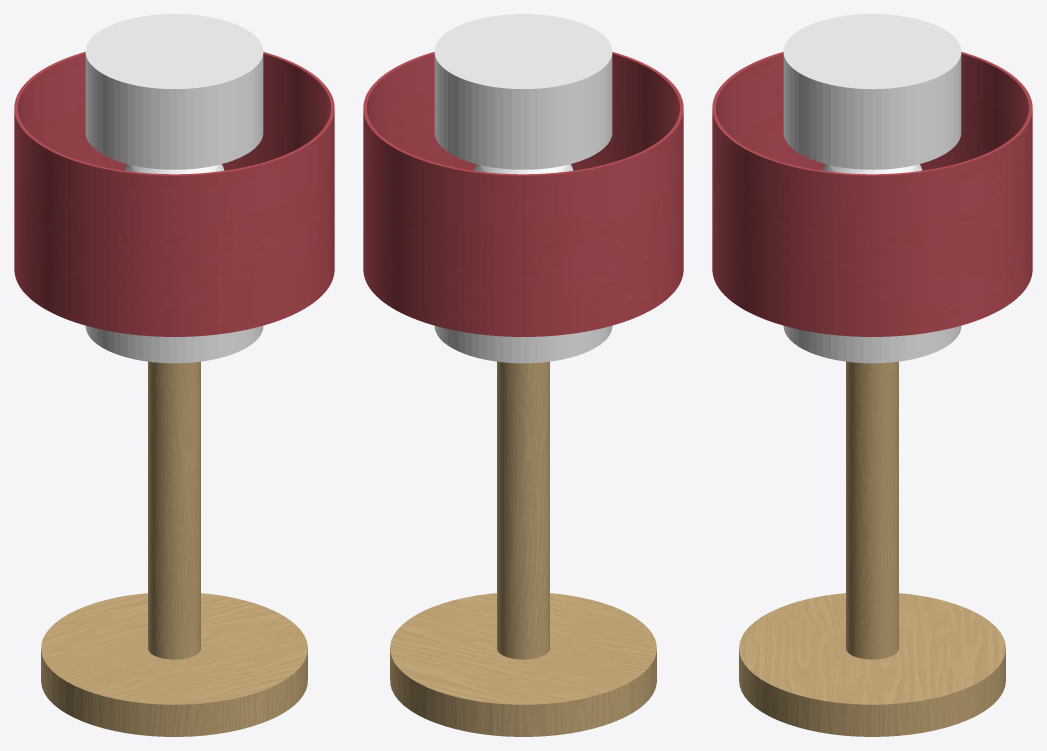
Rendered from RED_OFF.glb.
The picture shows the model from 3 angles, left to right: view 1: azimuth 30°, elevation 25°; view 2: azimuth 150°, elevation 25°; view 3: azimuth 270°, elevation 25°; orthographic projection.
Parts seen in each view (by area): view 1: SHELL, BASE, INNER_TOP, INNER_BOT, BULB; view 2: SHELL, BASE, INNER_TOP, INNER_BOT, BULB; view 3: SHELL, BASE, INNER_TOP, INNER_BOT, BULB.
Part boxes in pixels (x1,y1,x2,y2): SHELL: (14,52,334,336); BASE: (41,361,307,736); INNER_TOP: (85,14,263,169); INNER_BOT: (85,326,263,363); BULB: (124,164,224,174); SHELL: (363,52,683,336); BASE: (390,361,656,736); INNER_TOP: (434,14,612,169); INNER_BOT: (434,326,612,363); BULB: (473,164,573,174); SHELL: (712,52,1032,336); BASE: (739,361,1005,736); INNER_TOP: (783,14,961,169); INNER_BOT: (783,326,961,363); BULB: (822,164,922,174).
Bounding box in the file's own units: 0.18 × 0.39 × 0.18.
3 materials, 3 textured.
